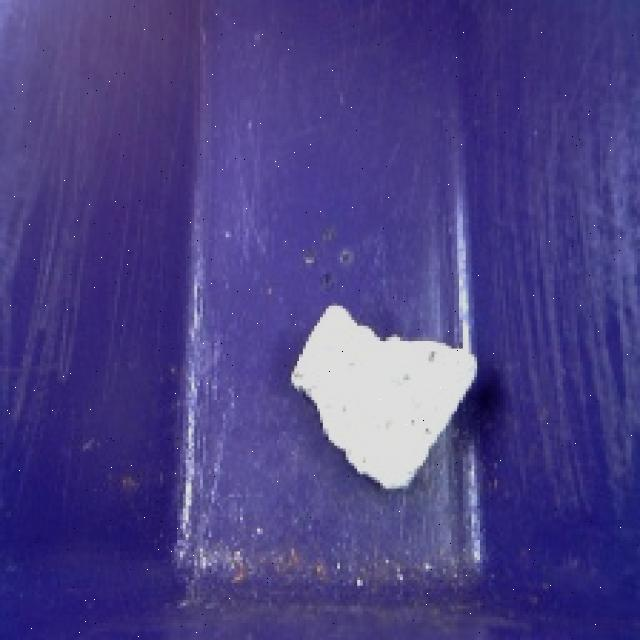brick: (281, 292, 501, 498)
